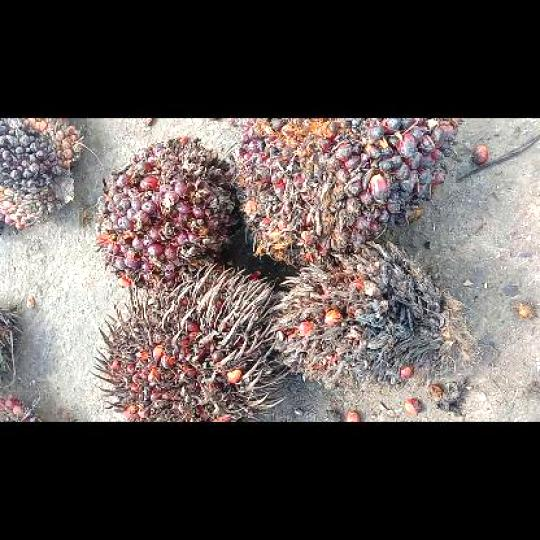masak: (232, 118, 461, 264), (94, 136, 238, 290)
terlalu masak: (93, 263, 289, 420), (270, 243, 467, 382)
